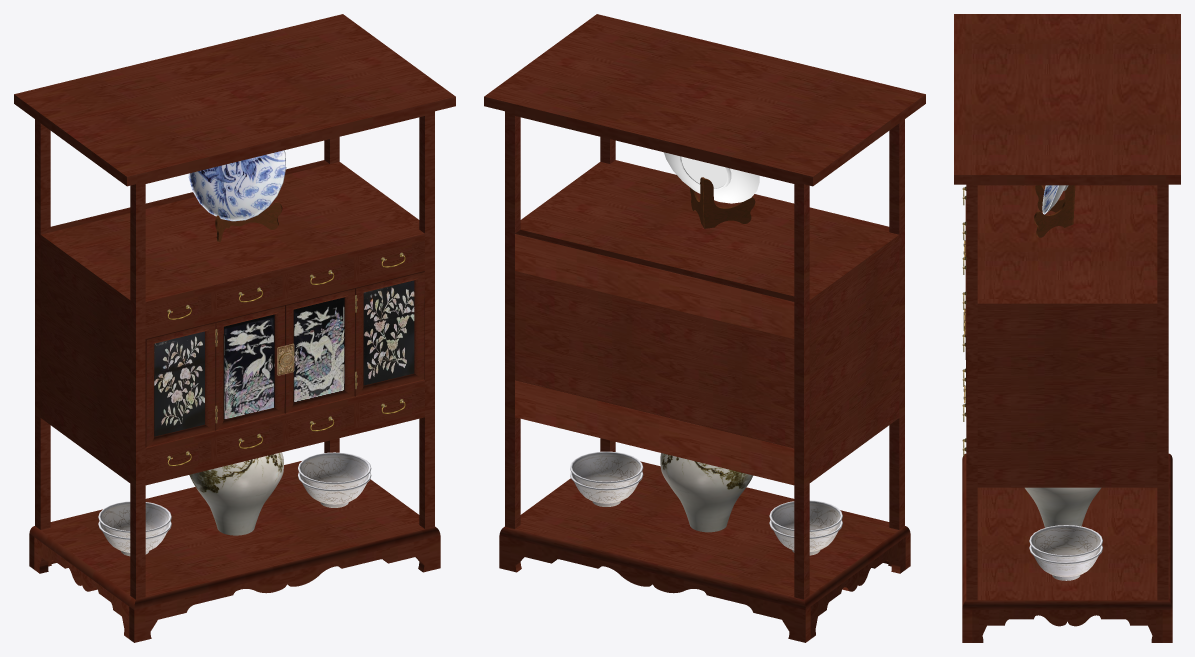
The model's file is 나전칠기 장식장.FBX.
3 renders of one model, left to right at view 1: azimuth 30°, elevation 25°; view 2: azimuth 150°, elevation 25°; view 3: azimuth 270°, elevation 25°, orthographic.
Parts seen in each view (by area): view 1: 나전칠기 장식장; view 2: 나전칠기 장식장; view 3: 나전칠기 장식장.
Part boxes in pixels (x1,y1,x2,y2): 나전칠기 장식장: (14,14,455,642); 나전칠기 장식장: (484,14,925,642); 나전칠기 장식장: (954,14,1180,642).
Bounding box in the file's own units: 39.28 × 53.84 × 23.36.
